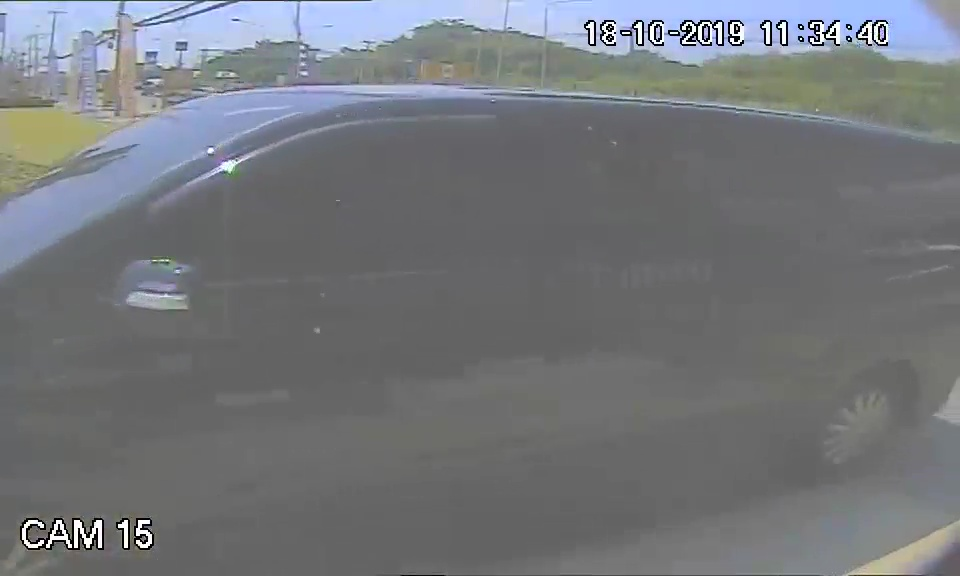van: (41, 73, 960, 523)
